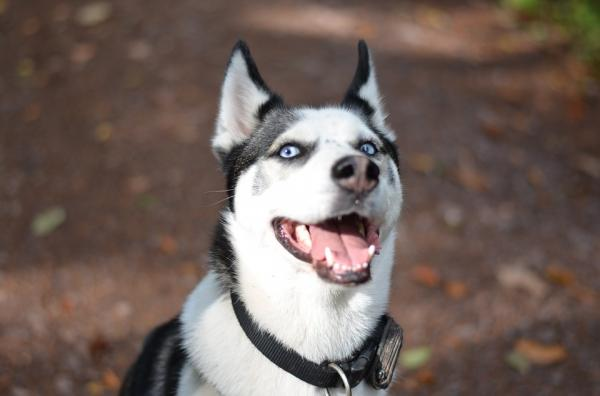husky: (189, 29, 406, 382)
